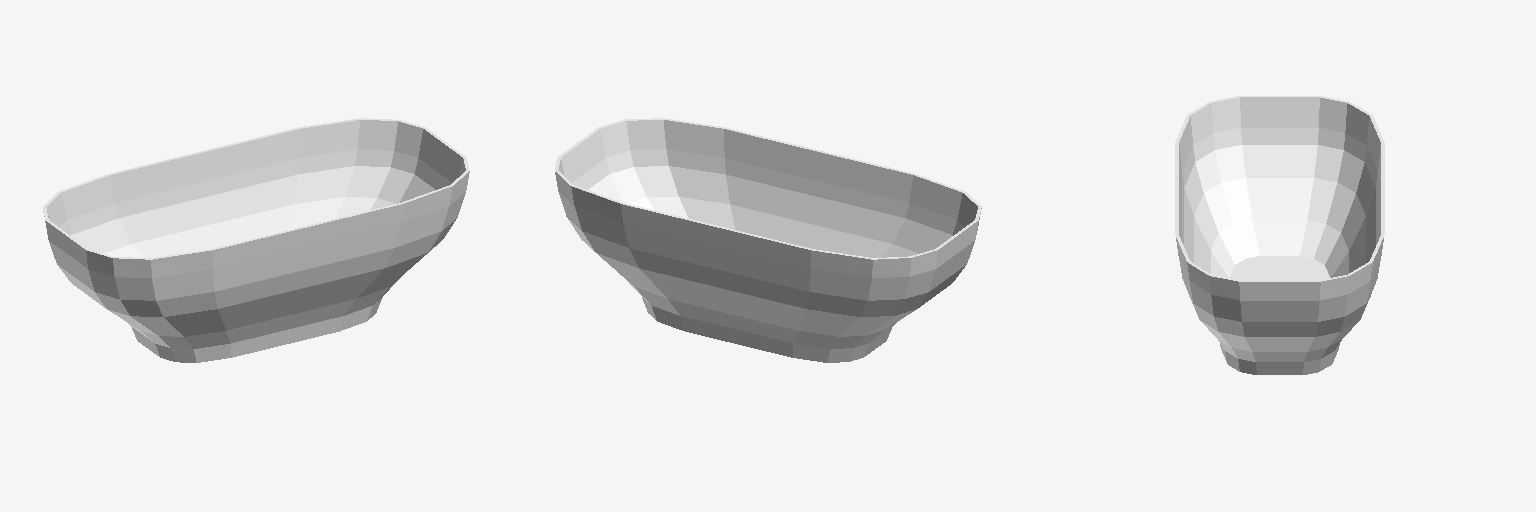
The model's file is 877953_VASCA.obj.
The picture shows the model from 3 angles: view 1: azimuth 30°, elevation 25°; view 2: azimuth 150°, elevation 25°; view 3: azimuth 270°, elevation 25°; orthographic projection.
Visible parts, largest first — view 1: Plane004; view 2: Plane004; view 3: Plane004.
Part boxes in pixels (left/top/right/bottom): Plane004: left=43, top=118, right=469, bottom=362; Plane004: left=555, top=118, right=981, bottom=362; Plane004: left=1175, top=96, right=1384, bottom=374.
Size of the model in its own units: 32.94 by 11.11 by 15.67.